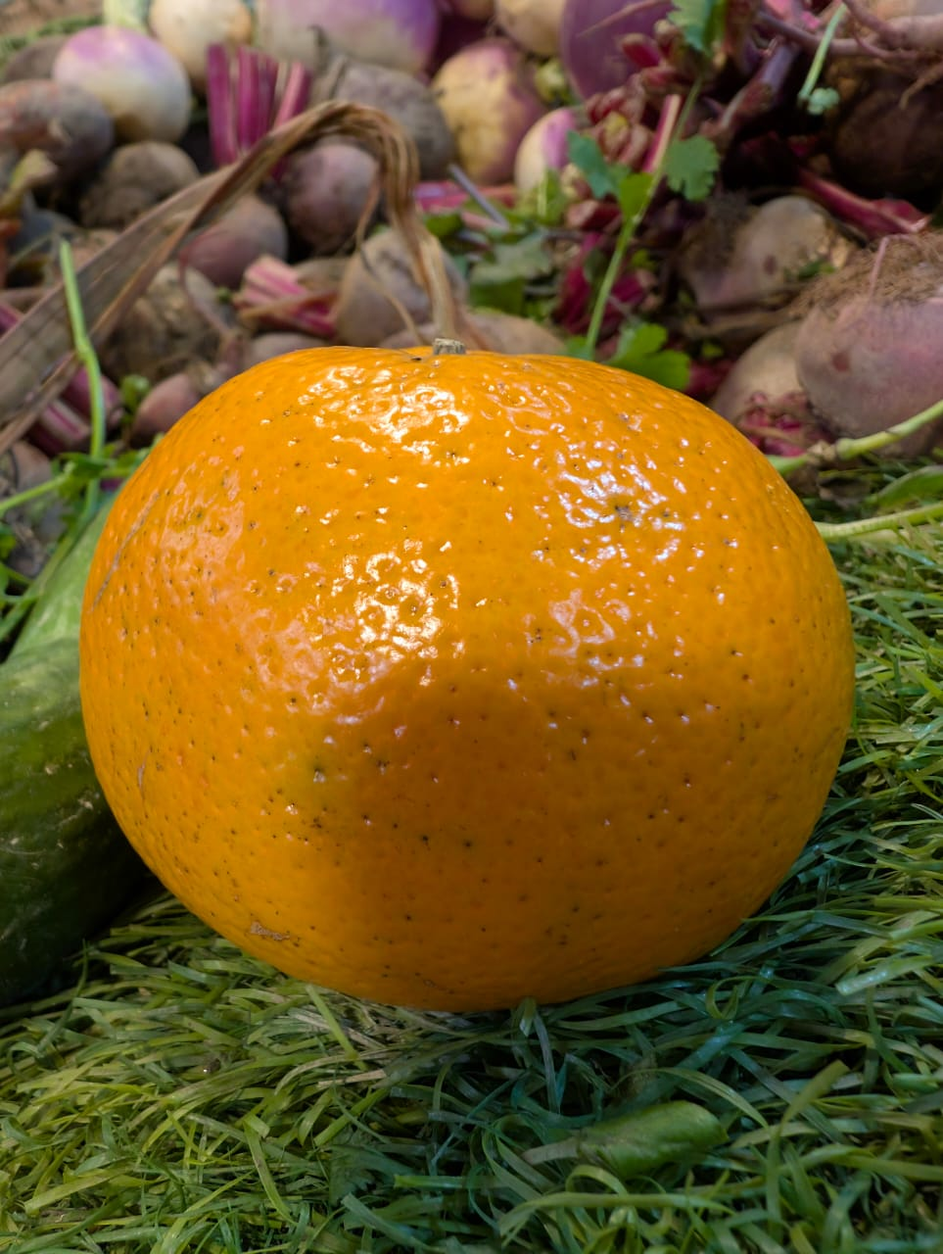orange: (103, 132, 770, 1254)
